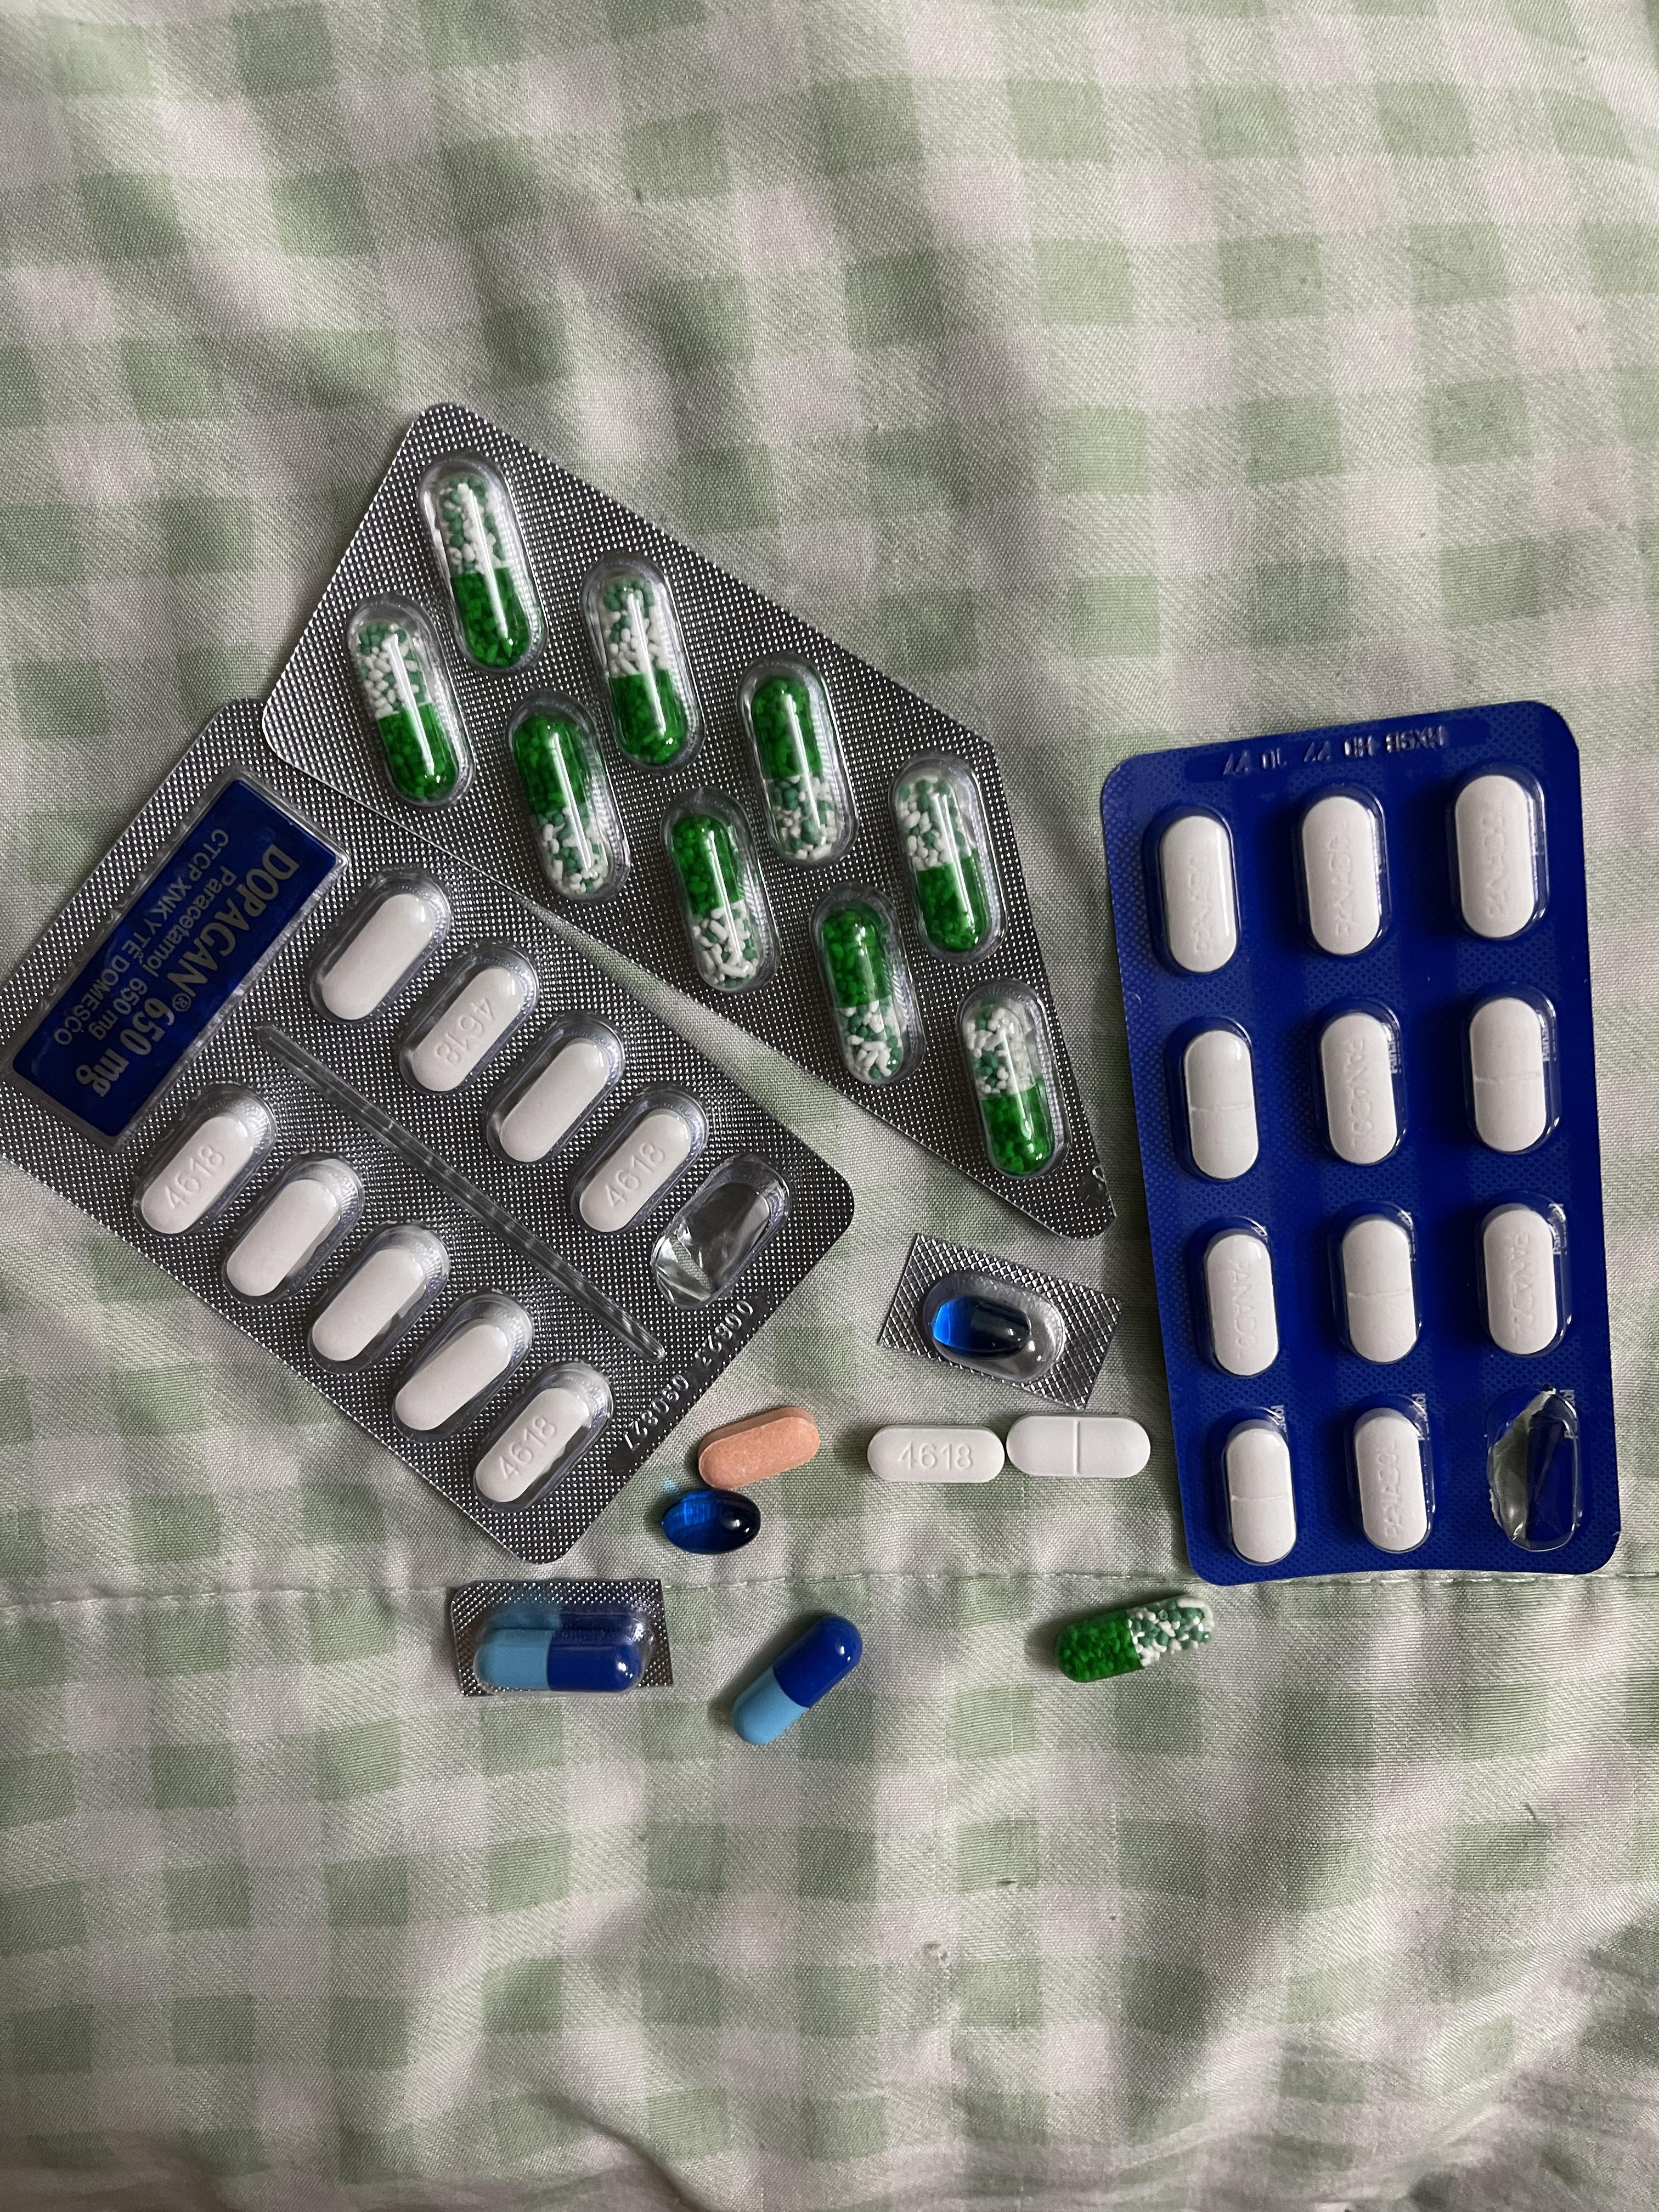Lincomyxin_500mg: (660, 1489, 765, 1550), (936, 1296, 1033, 1357)
Loratadine_10mg: (697, 1407, 821, 1491)
Paracetamol_350mg: (1297, 786, 1392, 960), (1453, 772, 1546, 946), (1466, 991, 1561, 1158), (1330, 1209, 1424, 1369), (1317, 1008, 1406, 1170), (1480, 1204, 1568, 1362), (1155, 815, 1237, 974), (1215, 1413, 1298, 1564), (1180, 1026, 1260, 1183), (1201, 1228, 1281, 1381), (1351, 1407, 1431, 1555), (1007, 1414, 1152, 1477)
Paracetamol_500mg: (394, 941, 544, 1099), (566, 1087, 711, 1242), (307, 1221, 457, 1367), (484, 1021, 627, 1170), (389, 1298, 535, 1440), (317, 890, 444, 1021), (225, 1174, 354, 1301), (141, 1113, 258, 1237), (476, 1385, 599, 1500), (868, 1426, 1004, 1489)
Paracetamol_650mg: (436, 477, 533, 669), (357, 617, 457, 799), (514, 711, 612, 892), (965, 998, 1054, 1177), (599, 578, 687, 759), (901, 770, 986, 949), (758, 686, 842, 859), (674, 820, 756, 995), (823, 911, 901, 1082), (1060, 1595, 1188, 1681)
pill: (476, 1599, 652, 1693), (728, 1613, 854, 1743)
